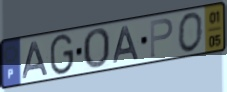A: (112, 24, 141, 65), (21, 40, 50, 81)
G: (49, 33, 75, 77)
O: (81, 27, 112, 71), (176, 10, 204, 55)
P: (148, 17, 175, 60)
